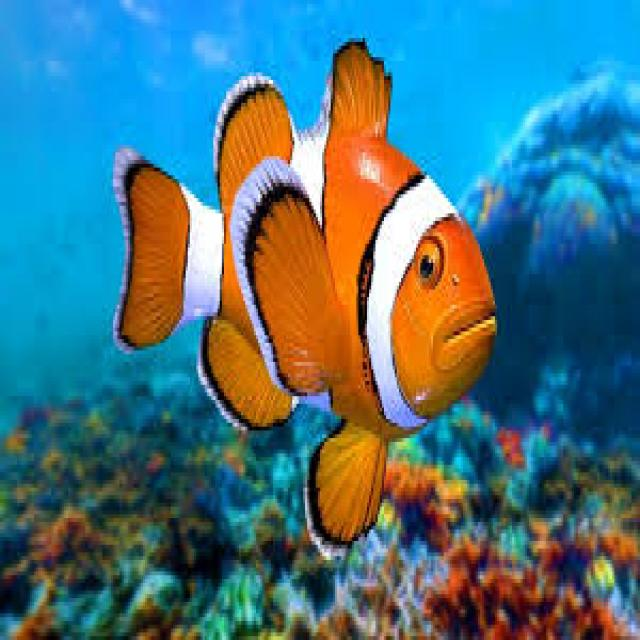Amphiprion-percula: (73, 47, 527, 570)
